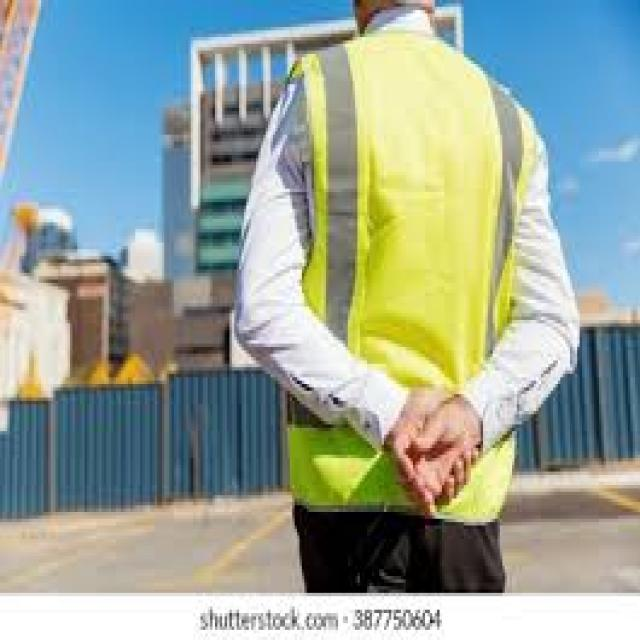Reflective-Jacket: (261, 13, 553, 536)
Safety-Helmet: (10, 196, 44, 240)
